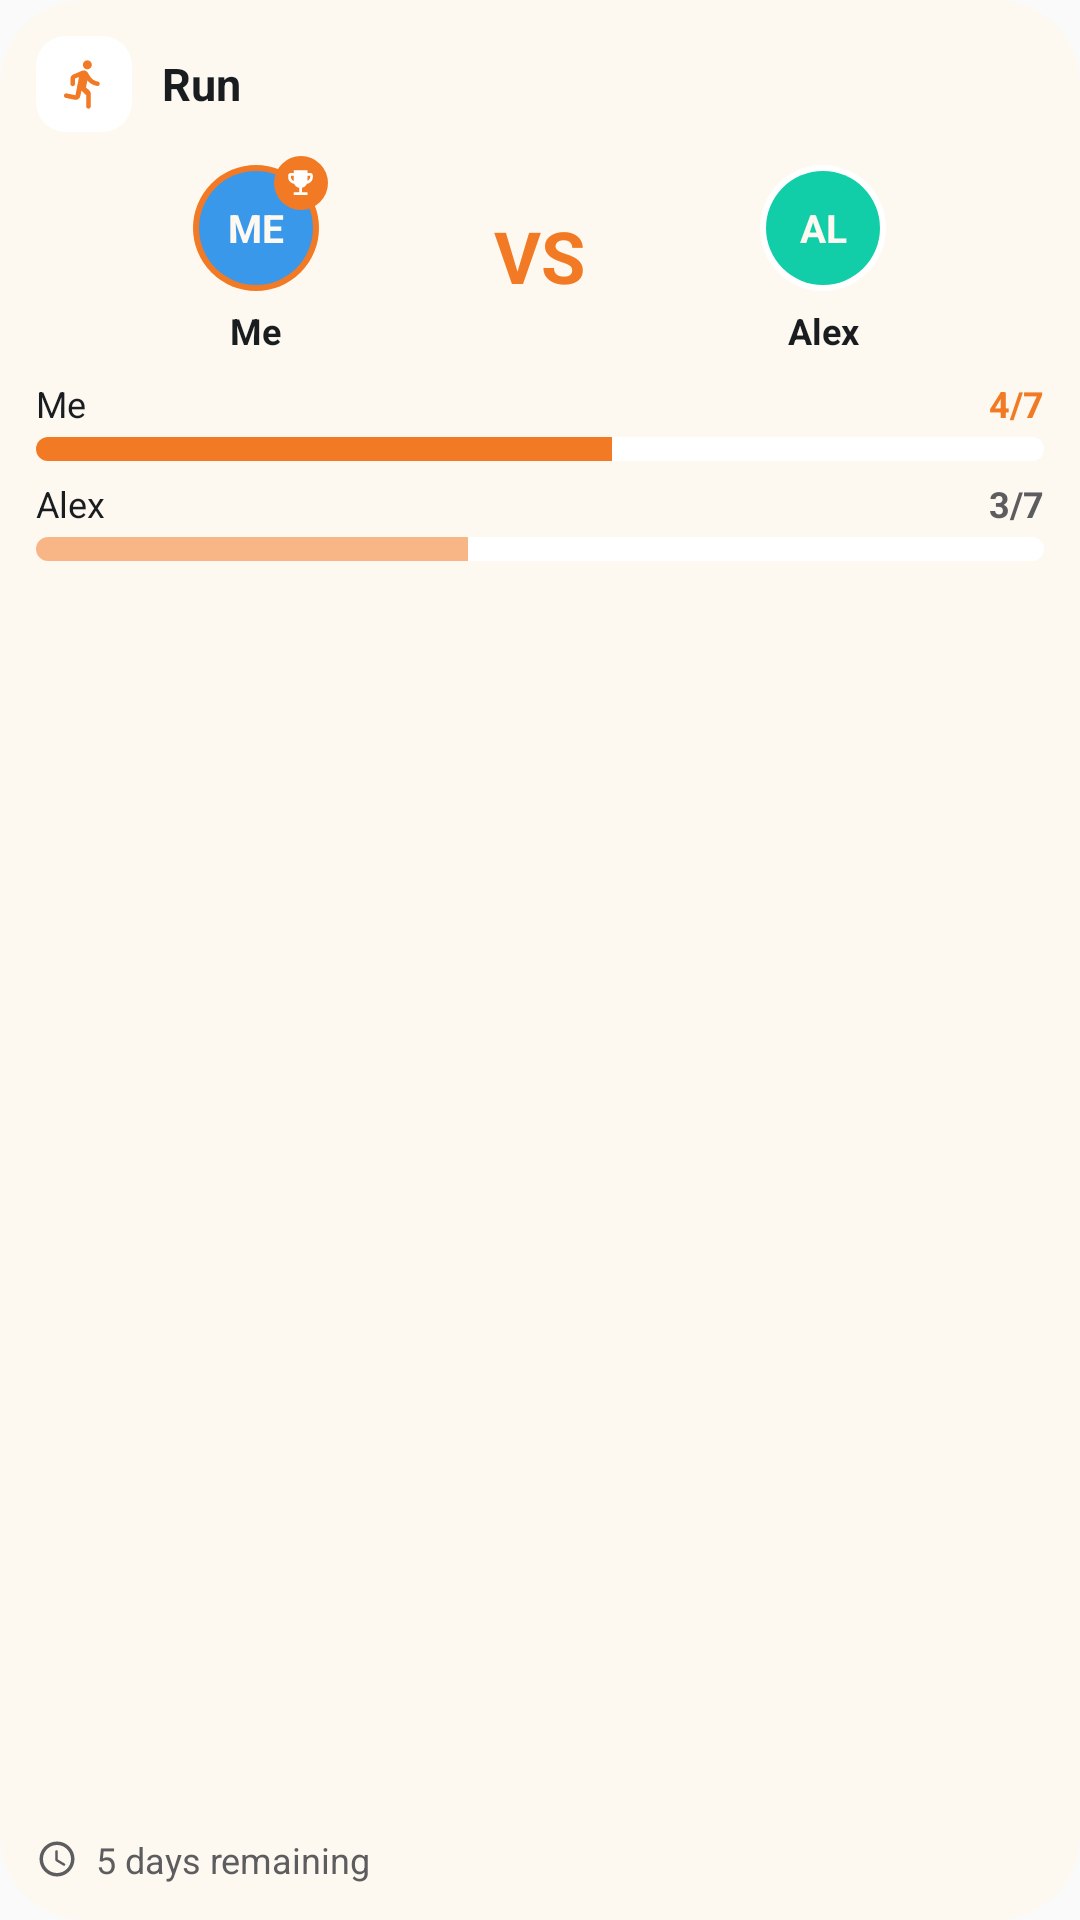

Icons on this 1080px x 1920px Android screen, each with the point to tap as point (x, y):
habit directions run: point (82, 84)
Who is ahead: point (300, 182)
widget schedule: point (57, 1859)
